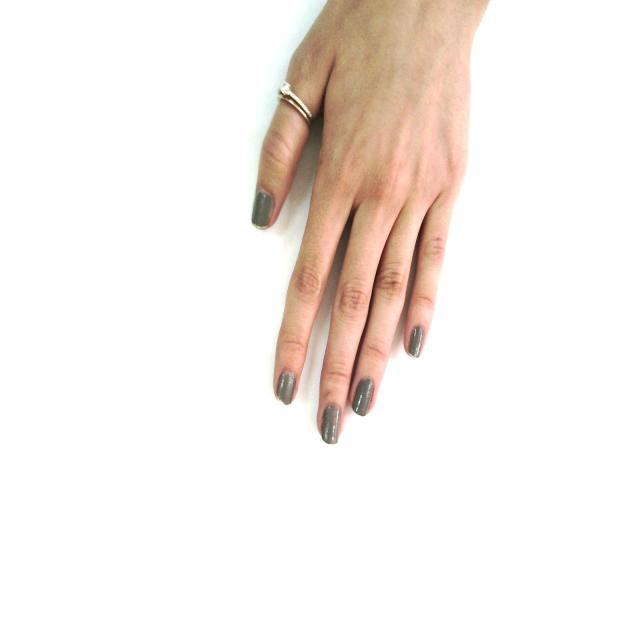Fingernail: (352, 378, 373, 414), (322, 404, 340, 444), (252, 191, 271, 227), (277, 372, 295, 404), (407, 326, 422, 357)
